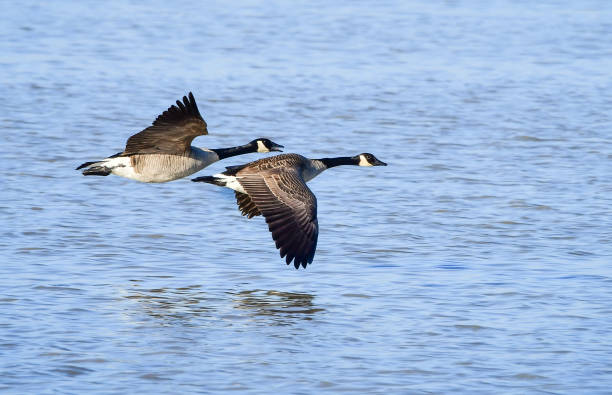goose: (190, 152, 389, 271), (74, 92, 286, 185)
